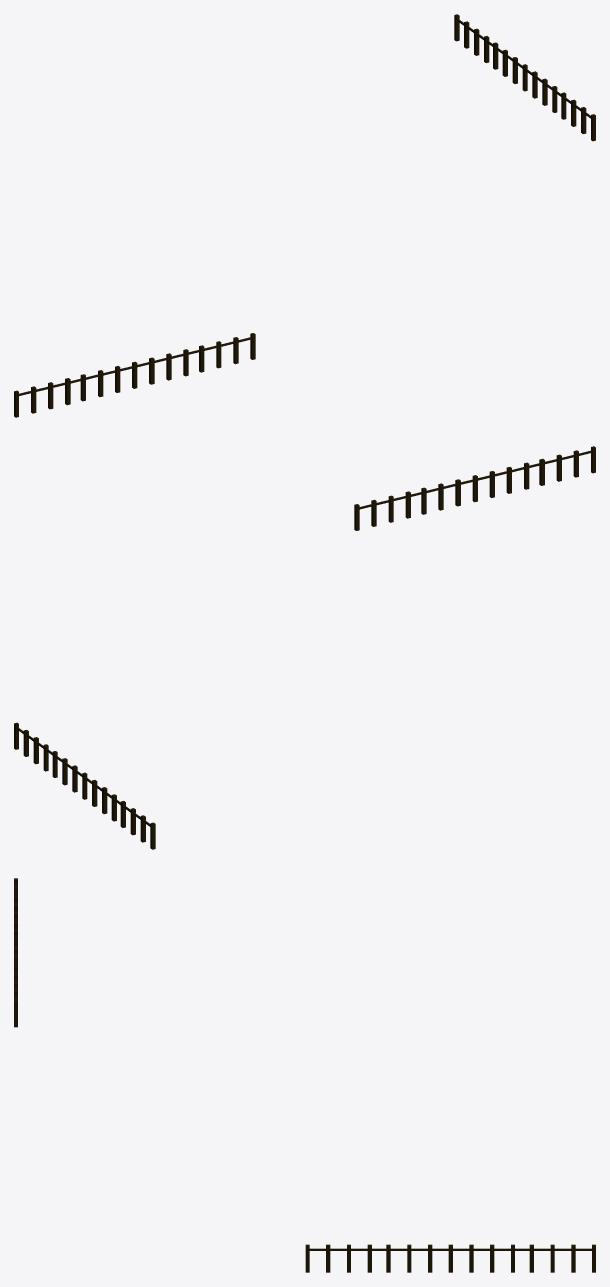
The model's file is Side_House_Gates.fbx.
3 renders of one model, top to bottom at view 1: azimuth 30°, elevation 25°; view 2: azimuth 210°, elevation 25°; view 3: azimuth 270°, elevation 25°, orthographic. The views are drawn at different scales.
Visible parts, largest first — view 1: polySurface7, polySurface5; view 2: polySurface7, polySurface5; view 3: polySurface5, polySurface7.
Part boxes in pixels (x1,y1,x2,y2): polySurface7: (14, 333, 255, 417); polySurface5: (454, 14, 595, 141); polySurface7: (354, 446, 595, 530); polySurface5: (14, 722, 155, 849); polySurface5: (305, 1244, 595, 1272); polySurface7: (14, 878, 17, 1027).
Bounding box in the file's own units: 1942 × 64.86 × 1297.
